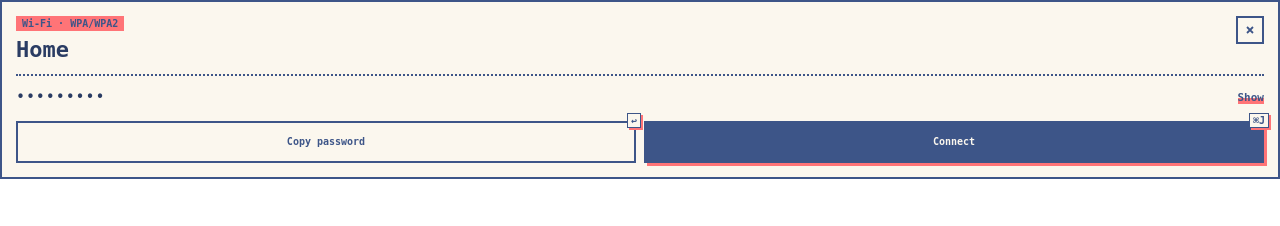
Scenario: WifiCard › shows why a connection failed and lets you try again
Click the button "Connect" at (954, 142), box [644, 121, 1264, 163]
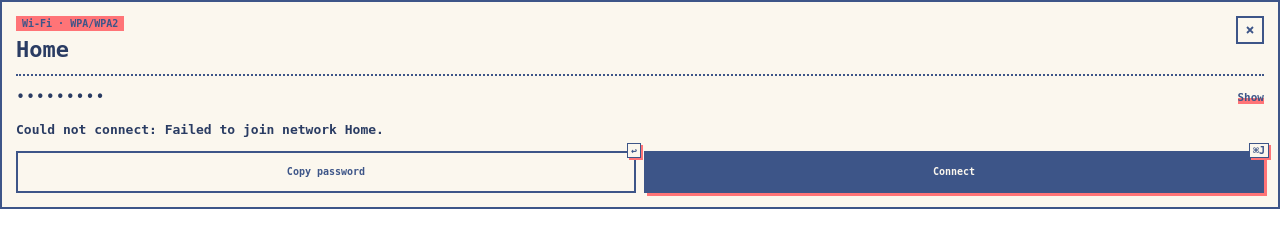
Expected: the button "Connect" is enabled, [644, 151, 1264, 193]
Now the text "Could not connect: Failed to join network Home." is shown, box [16, 122, 384, 137]
